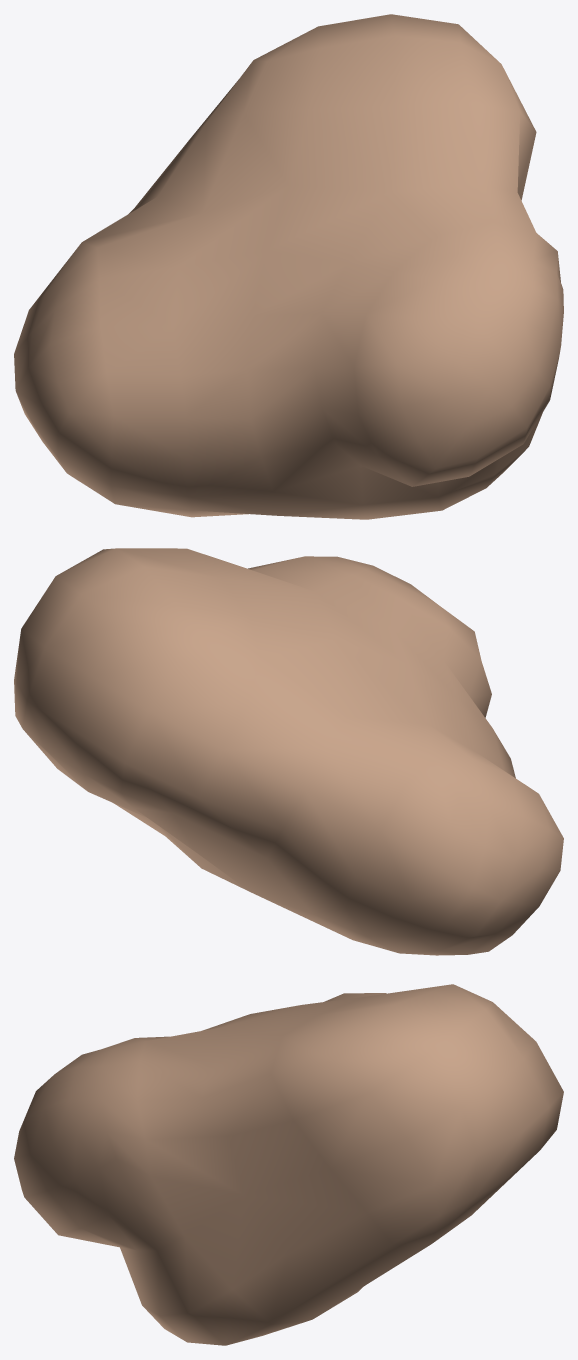
File: Item_Gold_LOD1.fbx
The picture shows the model from 3 angles, top to bottom: view 1: azimuth 30°, elevation 25°; view 2: azimuth 150°, elevation 25°; view 3: azimuth 270°, elevation 25°; orthographic projection. The views are drawn at different scales.
Visible parts, largest first — view 1: GoldNuget; view 2: GoldNuget; view 3: GoldNuget.
Part boxes in pixels (left/top/right/bottom): GoldNuget: left=14, top=14, right=563, bottom=519; GoldNuget: left=14, top=548, right=563, bottom=955; GoldNuget: left=14, top=984, right=563, bottom=1345.
Size of the model in its own units: 81.67 by 57.86 by 80.95.
